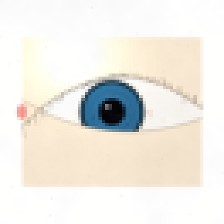pinguecula_lesion: (18, 101, 67, 141)
